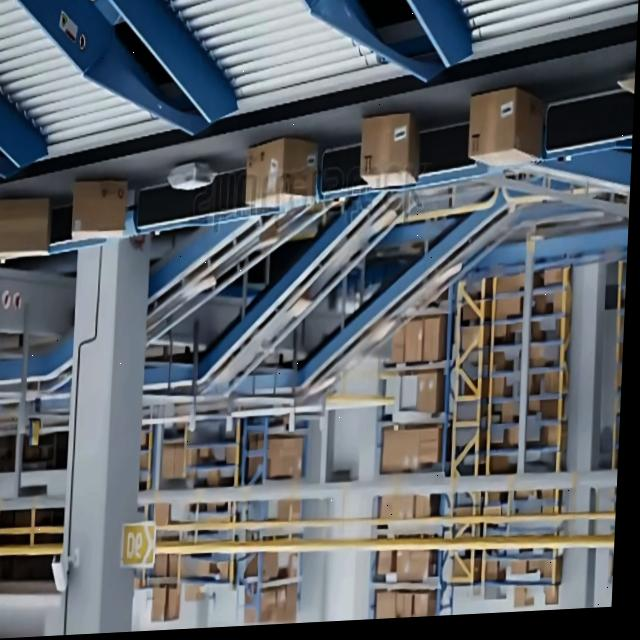product 1: (243, 132, 320, 214), (358, 111, 422, 190), (70, 177, 129, 242)
product 2: (167, 157, 220, 193)
